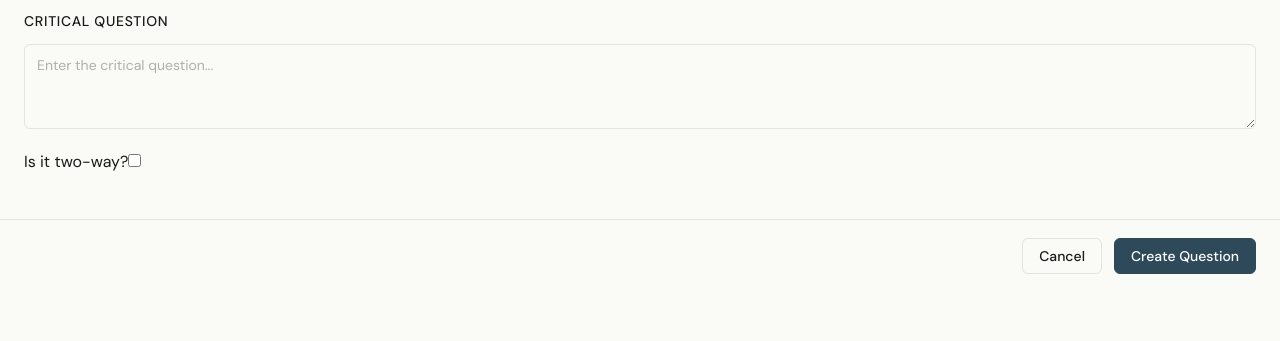
Test: AddCriticalQuestionForm › shows validation error when question is empty
This screenshot has width=1280, height=341.
Step 1. Click the button "Create Question" → (1185, 256), box [1114,238,1256,274]
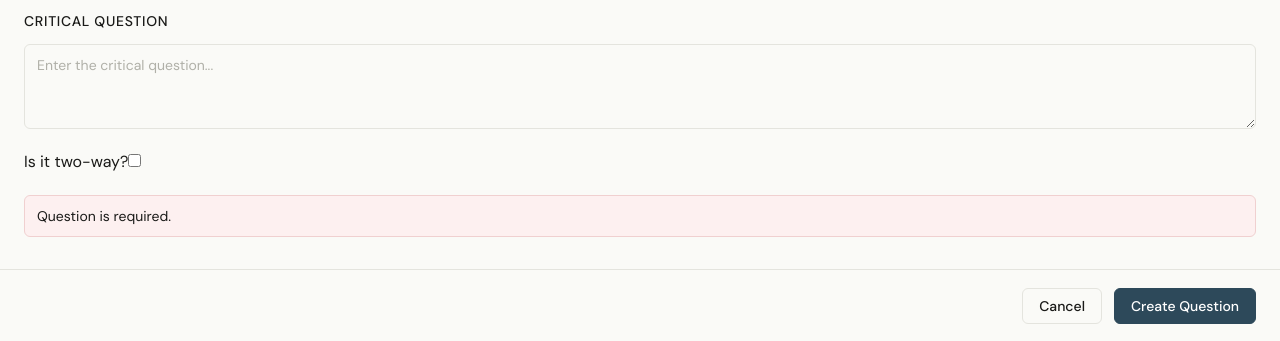
Now the text "Question is required." is shown, box [24,195,1256,237]
